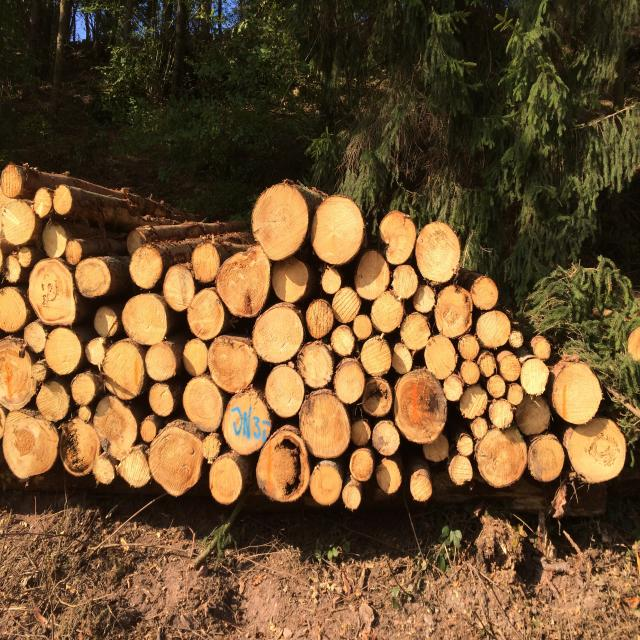wood-log: (251, 180, 309, 260), (216, 245, 271, 317), (394, 370, 448, 443), (256, 430, 310, 502), (149, 427, 204, 497), (568, 417, 626, 483), (311, 195, 365, 265), (2, 413, 59, 478), (222, 390, 272, 455), (475, 427, 528, 488), (300, 395, 350, 458), (552, 362, 602, 425), (29, 258, 75, 325), (92, 395, 138, 460), (252, 307, 304, 363), (208, 338, 259, 393), (415, 222, 460, 283), (102, 338, 145, 400), (0, 337, 36, 410), (60, 418, 101, 477), (121, 293, 166, 345), (182, 377, 224, 432), (265, 363, 305, 418), (379, 210, 416, 265), (435, 285, 472, 338), (188, 288, 224, 340), (528, 433, 565, 482), (354, 250, 390, 300), (44, 327, 81, 375), (298, 340, 335, 388), (272, 257, 309, 303), (162, 263, 195, 312), (209, 455, 241, 505), (129, 245, 164, 290), (371, 290, 405, 333), (424, 335, 456, 380), (36, 380, 70, 422), (2, 202, 35, 245), (75, 258, 111, 297), (116, 448, 151, 488), (515, 395, 550, 435), (334, 358, 365, 403), (310, 462, 341, 505), (476, 310, 511, 348), (360, 335, 391, 377), (361, 377, 392, 417), (400, 312, 431, 350), (306, 298, 334, 340), (0, 287, 26, 332), (145, 343, 175, 382), (191, 243, 220, 283), (371, 420, 400, 457), (520, 358, 549, 395), (332, 287, 361, 323), (460, 383, 488, 420), (470, 275, 499, 310), (182, 338, 208, 377), (376, 458, 401, 495), (149, 382, 174, 417), (392, 265, 418, 298), (42, 223, 66, 258), (24, 320, 49, 353), (489, 398, 514, 430), (422, 433, 449, 462), (1, 163, 24, 197), (331, 325, 355, 357), (71, 373, 94, 405), (92, 453, 115, 485), (94, 307, 118, 337), (350, 452, 374, 482), (391, 343, 412, 375), (499, 352, 521, 382), (412, 285, 435, 313), (451, 455, 472, 485), (52, 185, 72, 215), (410, 475, 432, 502), (321, 267, 342, 295), (351, 418, 371, 447), (444, 373, 464, 402), (202, 433, 221, 463), (458, 333, 479, 360), (34, 188, 52, 218), (85, 338, 105, 365), (476, 350, 496, 377), (352, 315, 372, 340), (460, 360, 480, 385), (486, 375, 506, 398), (65, 238, 82, 265), (342, 487, 361, 510), (126, 228, 142, 255), (456, 433, 474, 457), (5, 255, 20, 283), (470, 417, 488, 440), (533, 338, 551, 360), (506, 383, 524, 405), (140, 418, 156, 442), (18, 247, 31, 268), (509, 330, 524, 348), (31, 363, 45, 382), (78, 405, 92, 422)
